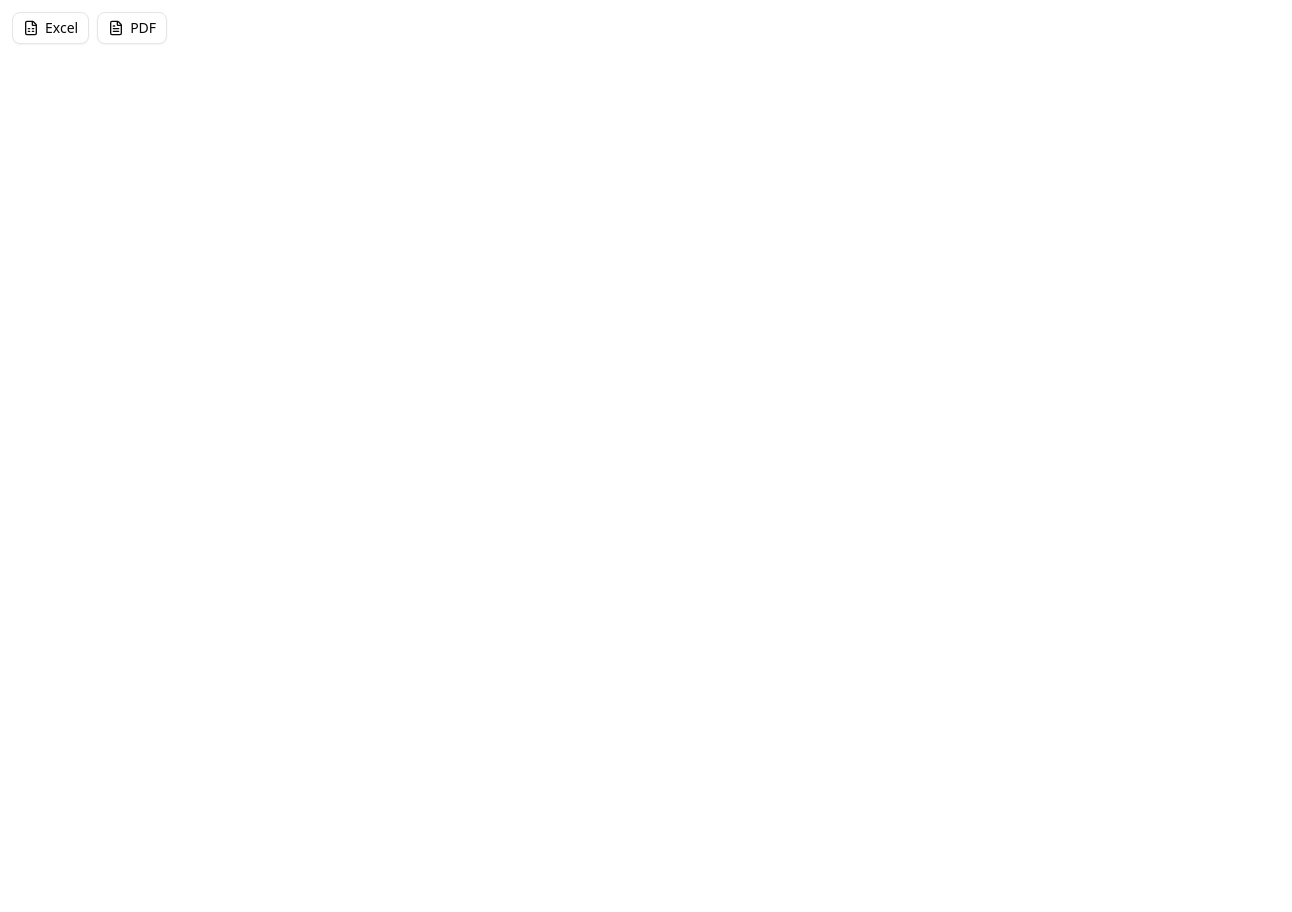
ExportButtons: errores de descarga › un 500 con cuerpo HTML muestra un toast genérico en español y libera el botón
Click the button with aria-label "Descargar en PDF".
click(132, 28)  # box [97,12,167,44]
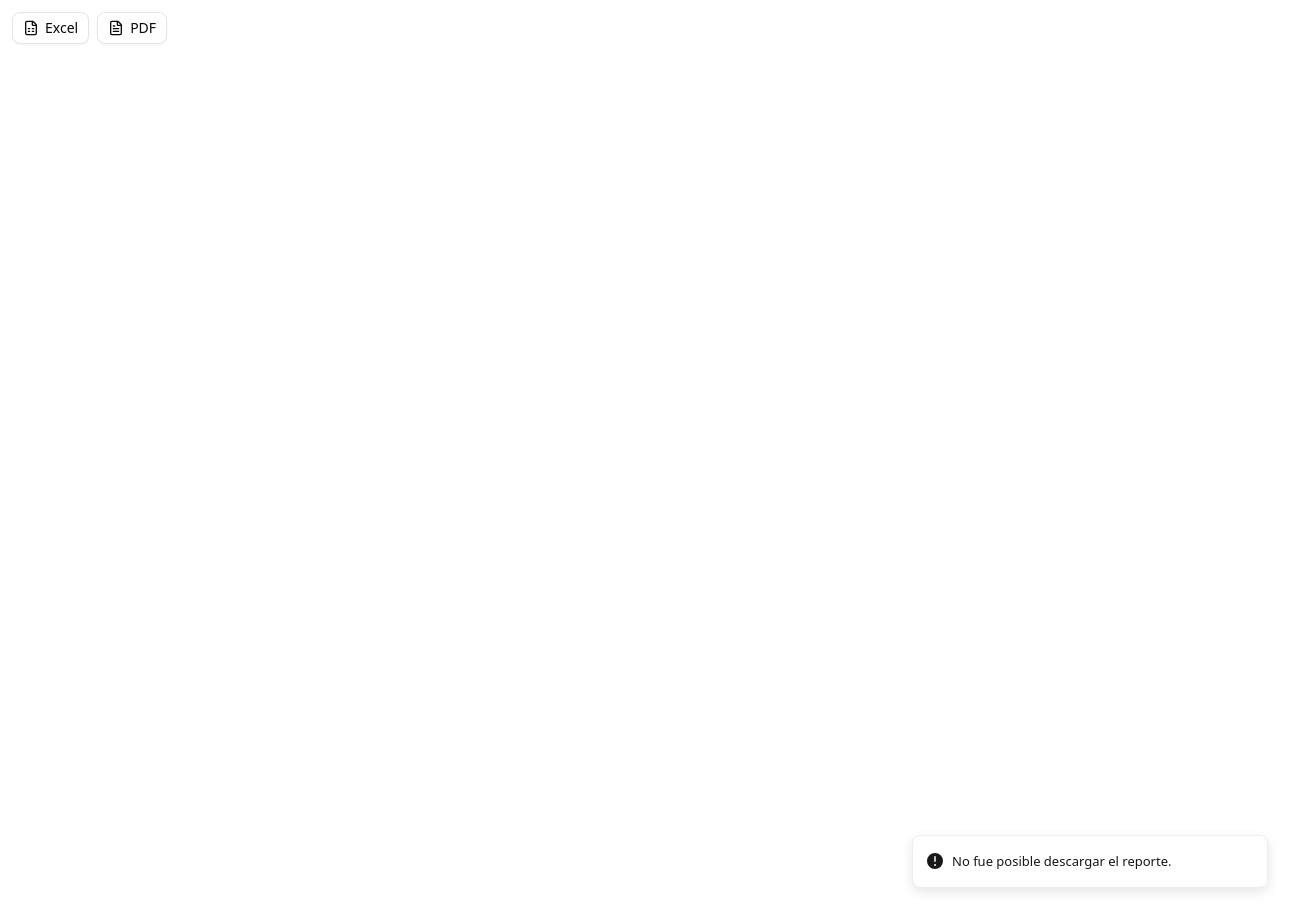
Now the text "No fue posible descargar el reporte." is shown, box [952,852,1172,871]
